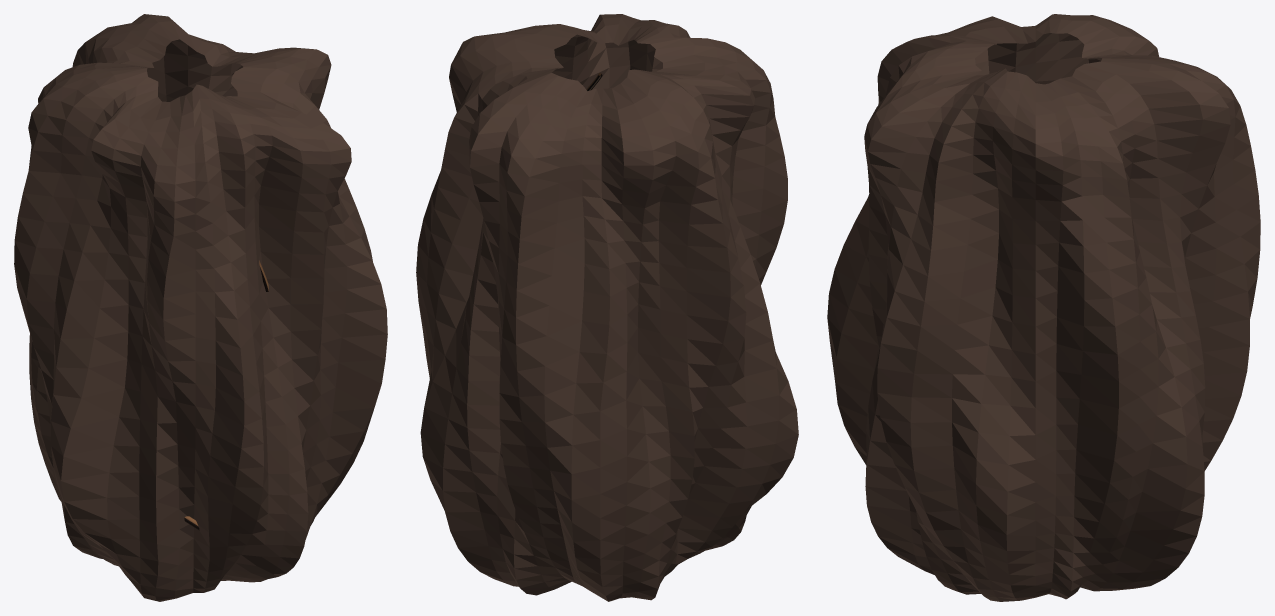
Rendered from mossy_tall_rock.obj.
3 views of the same model, side by side, from view 1: azimuth 30°, elevation 25°; view 2: azimuth 150°, elevation 25°; view 3: azimuth 270°, elevation 25° (orthographic). The views are drawn at different scales.
Bounding box in the file's own units: 2.85 × 4.38 × 3.25.
